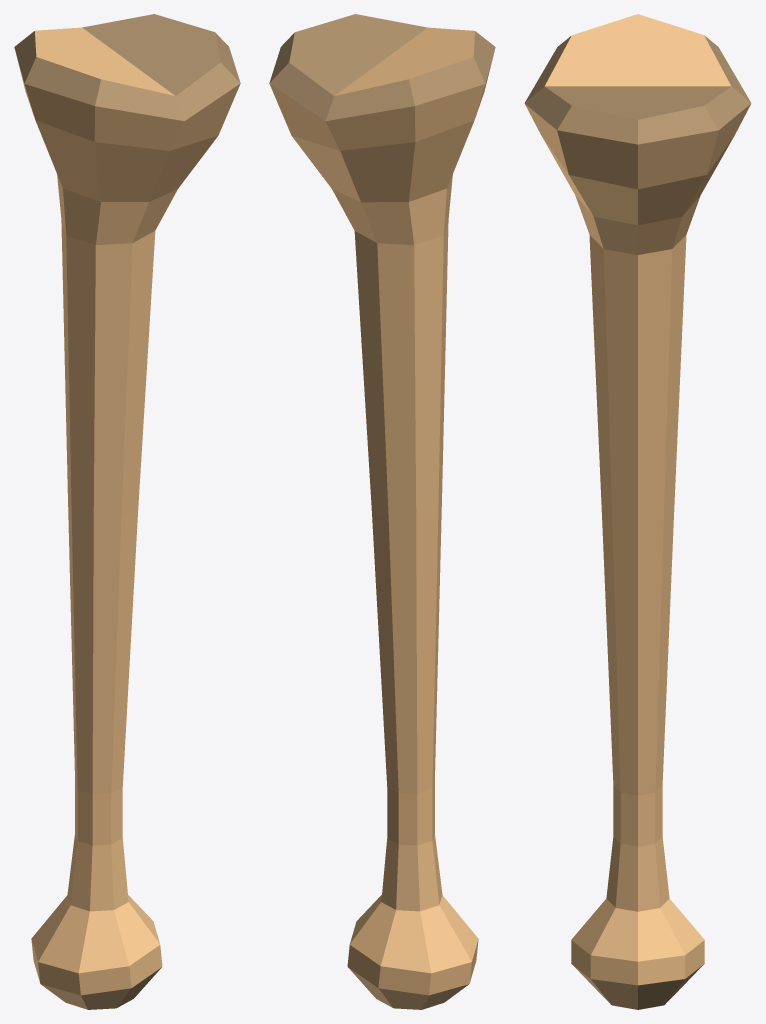
The model's file is WF_LP_HT_Props_Bone.001.fbx.
3 renders of one model, left to right at view 1: azimuth 30°, elevation 25°; view 2: azimuth 150°, elevation 25°; view 3: azimuth 270°, elevation 25°, orthographic.
Parts seen in each view (by area): view 1: WF_LP_HT_Props_Bone.001; view 2: WF_LP_HT_Props_Bone.001; view 3: WF_LP_HT_Props_Bone.001.
Part boxes in pixels (x1,y1,x2,y2): WF_LP_HT_Props_Bone.001: (14, 14, 240, 1009); WF_LP_HT_Props_Bone.001: (269, 14, 495, 1009); WF_LP_HT_Props_Bone.001: (524, 14, 751, 1009).
Size of the model in its own units: 0.2953 by 1.31 by 0.2844.
